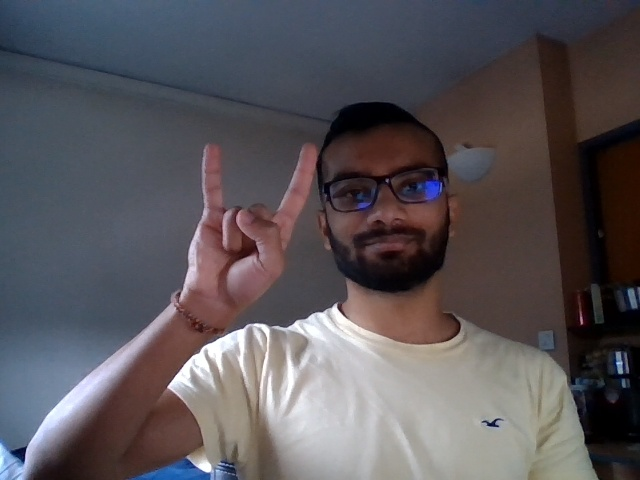I Love You: (156, 127, 324, 319)
